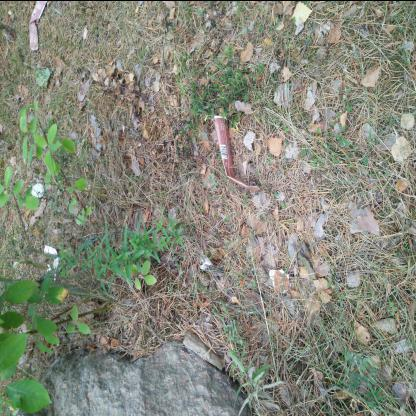karton: (115, 157, 193, 205), (1, 370, 51, 388)
